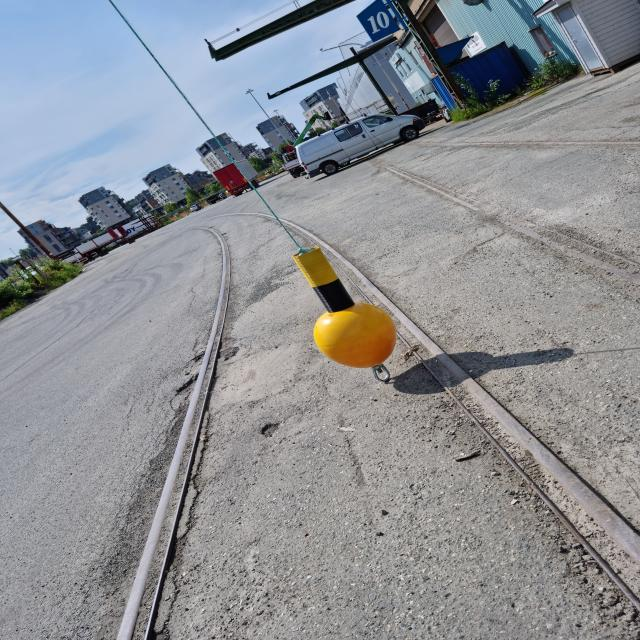west: (290, 246, 400, 367)
